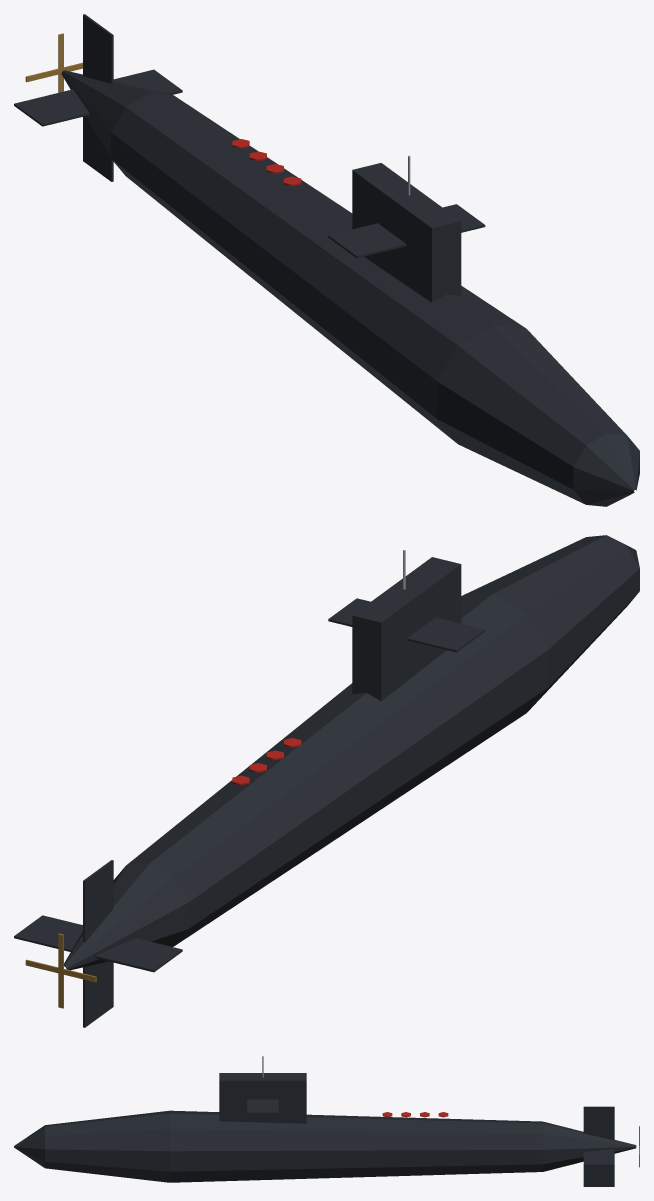
Rendered from veh_naval_submarine_a08.glb.
3 views of the same model, one above another, from view 1: azimuth 30°, elevation 25°; view 2: azimuth 150°, elevation 25°; view 3: azimuth 270°, elevation 25° (orthographic). The views are drawn at different scales.
Parts seen in each view (by area): view 1: body, propeller; view 2: body, propeller; view 3: body.
Boxes of the visible parts, bbox=[...] form: body: bbox=[14, 14, 639, 506]; propeller: bbox=[25, 33, 82, 92]; body: bbox=[14, 535, 639, 1027]; propeller: bbox=[25, 933, 96, 1008]; body: bbox=[14, 1056, 636, 1186].
Size of what is drawn, in the model's own units: 5.66 by 9.29 by 40.23.
